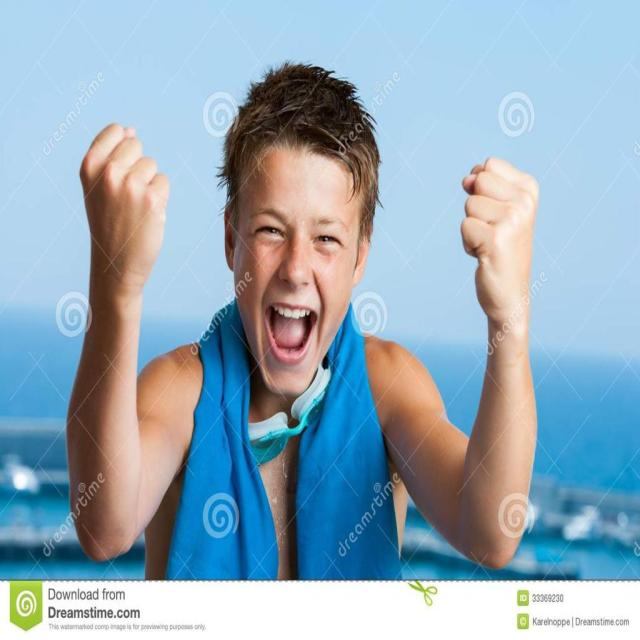Face: (242, 137, 368, 406)
